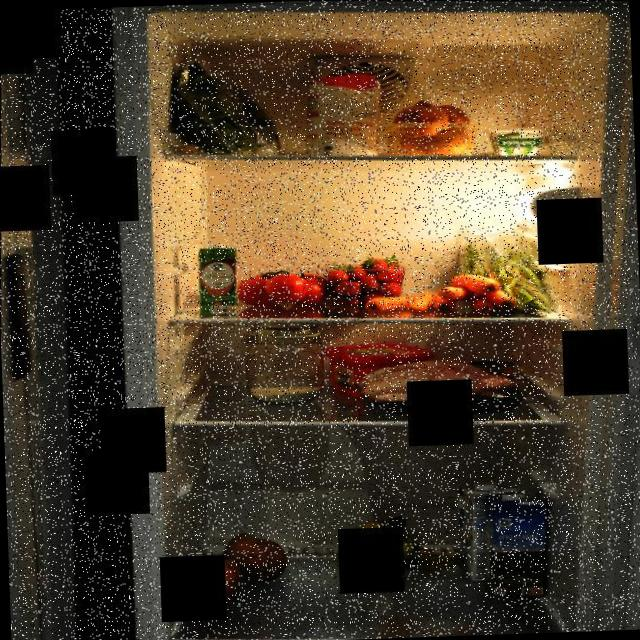Carne pollo: (350, 349, 534, 421)
Cebolla: (376, 96, 483, 159)
Leche: (478, 491, 553, 600), (453, 478, 524, 584)
Mantequilla: (319, 338, 437, 403)
Plátano: (333, 510, 467, 580)
Queso: (480, 123, 552, 156)
Tomate: (234, 262, 330, 311)
Zanahoria: (430, 270, 519, 320), (364, 289, 438, 315)
flour: (236, 313, 336, 407)
green_beans: (448, 217, 560, 319)
heavy_cream: (193, 241, 240, 317)
spinach: (162, 41, 292, 160)
strawberries: (324, 249, 409, 311)
sugar: (302, 70, 384, 158)
sweet_potato: (178, 522, 296, 608)
